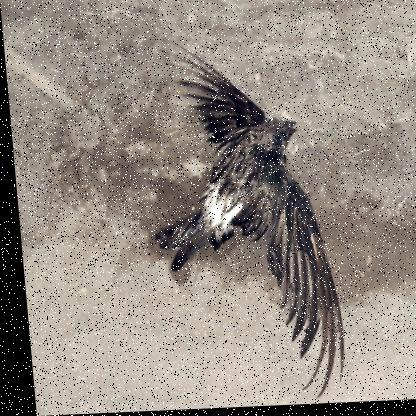Burung: (137, 35, 341, 404)
